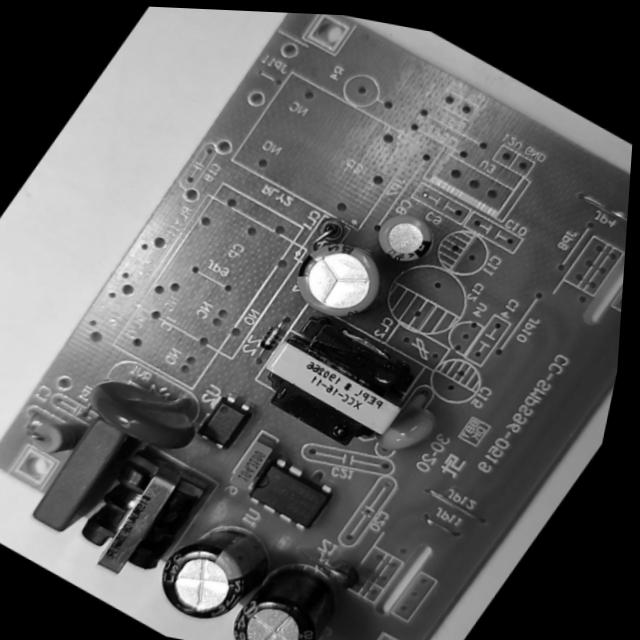Cap1: (270, 217, 407, 341)
Cap2: (361, 199, 447, 278)
Cap3: (136, 499, 286, 640)
Cap4: (211, 538, 364, 640)
MOSFET: (239, 450, 340, 540)
Mov: (72, 351, 220, 465)
Resistor: (13, 394, 93, 472)
Transformer: (233, 293, 441, 467), (57, 435, 217, 602)
